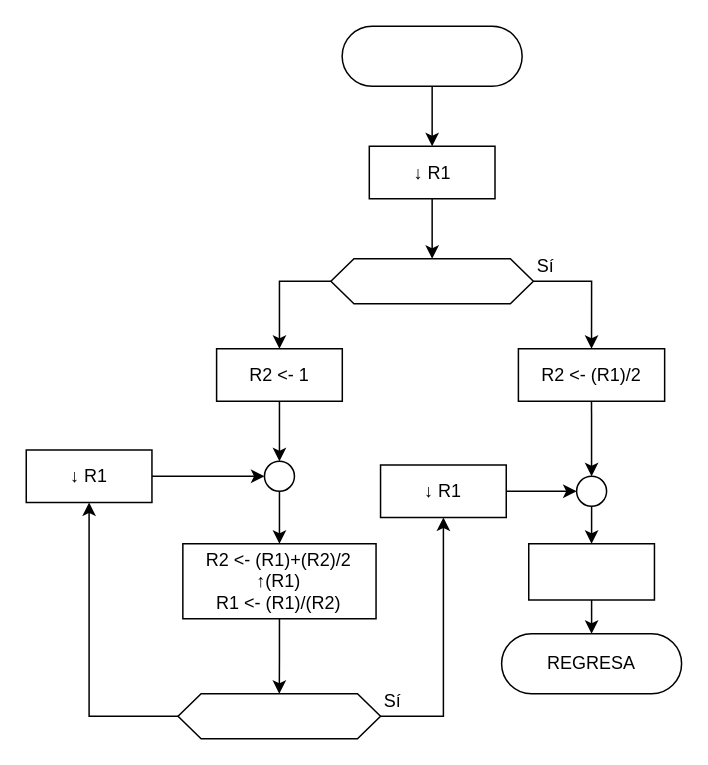
Image size: 708x765. Some labels were removed from this diagram. Each missing label, with the centre of its shape:
(R1) % 2 = 0: pixel 431 280
(R1) = (R2): pixel 279 715
RAIZ: pixel 431 55
↑(R2): pixel 590 571
